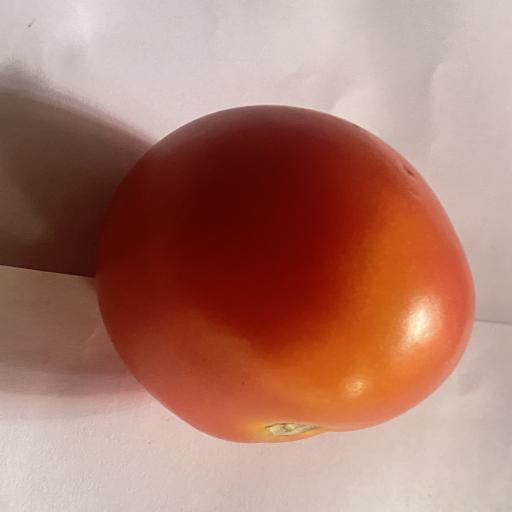ripe: (96, 105, 475, 443)
